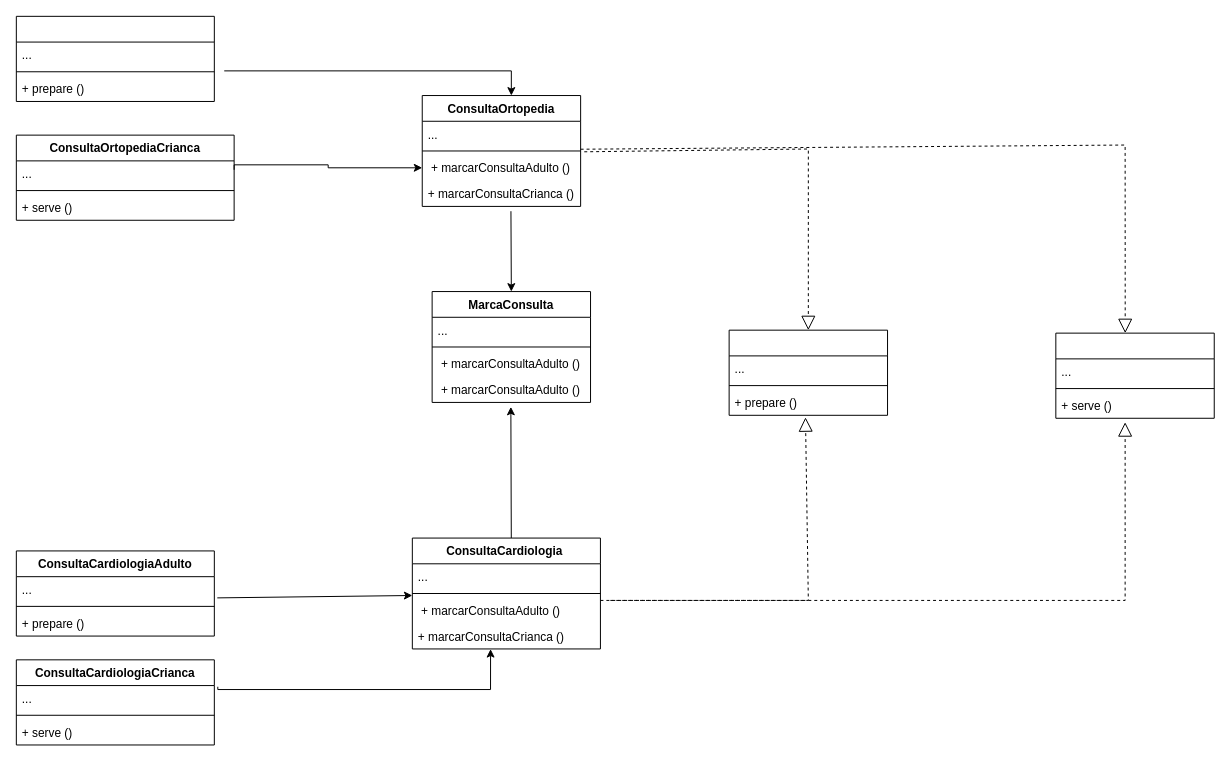
The diagram is 1231 pixels wide and 761 high, and some of its shapes have lost their labels. The shapes that lost their labels are listed below. From the top down, each one's box as (x1, y1, x2, y2) in pixels, then its label:
(15, 15, 214, 101): ConsultaOrtopediaAdulto
(728, 329, 888, 415): ConsAdulto
(1055, 332, 1214, 418): ConsCrianca
